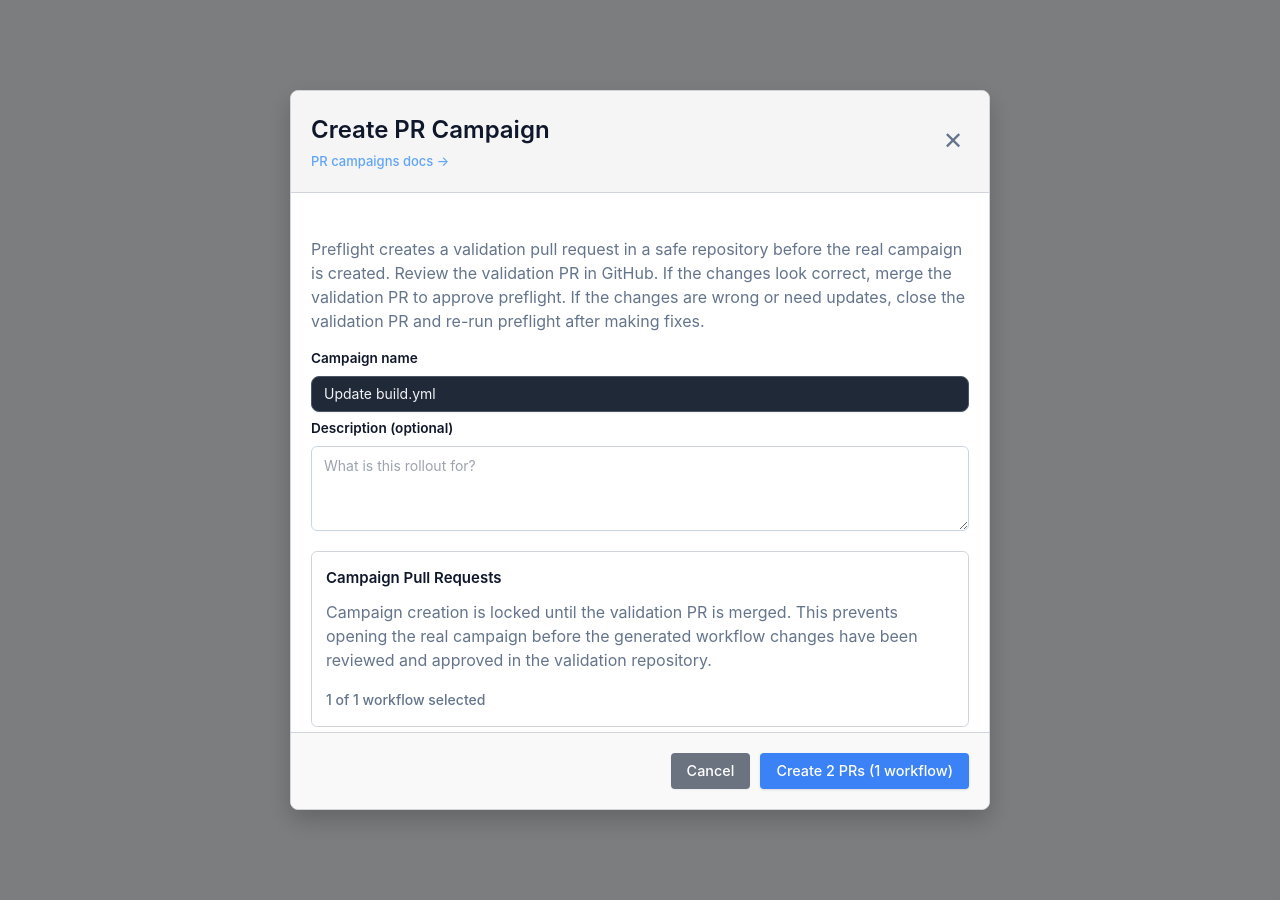
Test: CreatePRModal › failure reasons on the results screen › does not claim success when nothing was created
What coordinates should you click on to do the following:
click the button "Create 2 PRs (1 workflow)"
I would click on:
 (865, 771)
Its box is [760,753,969,789].
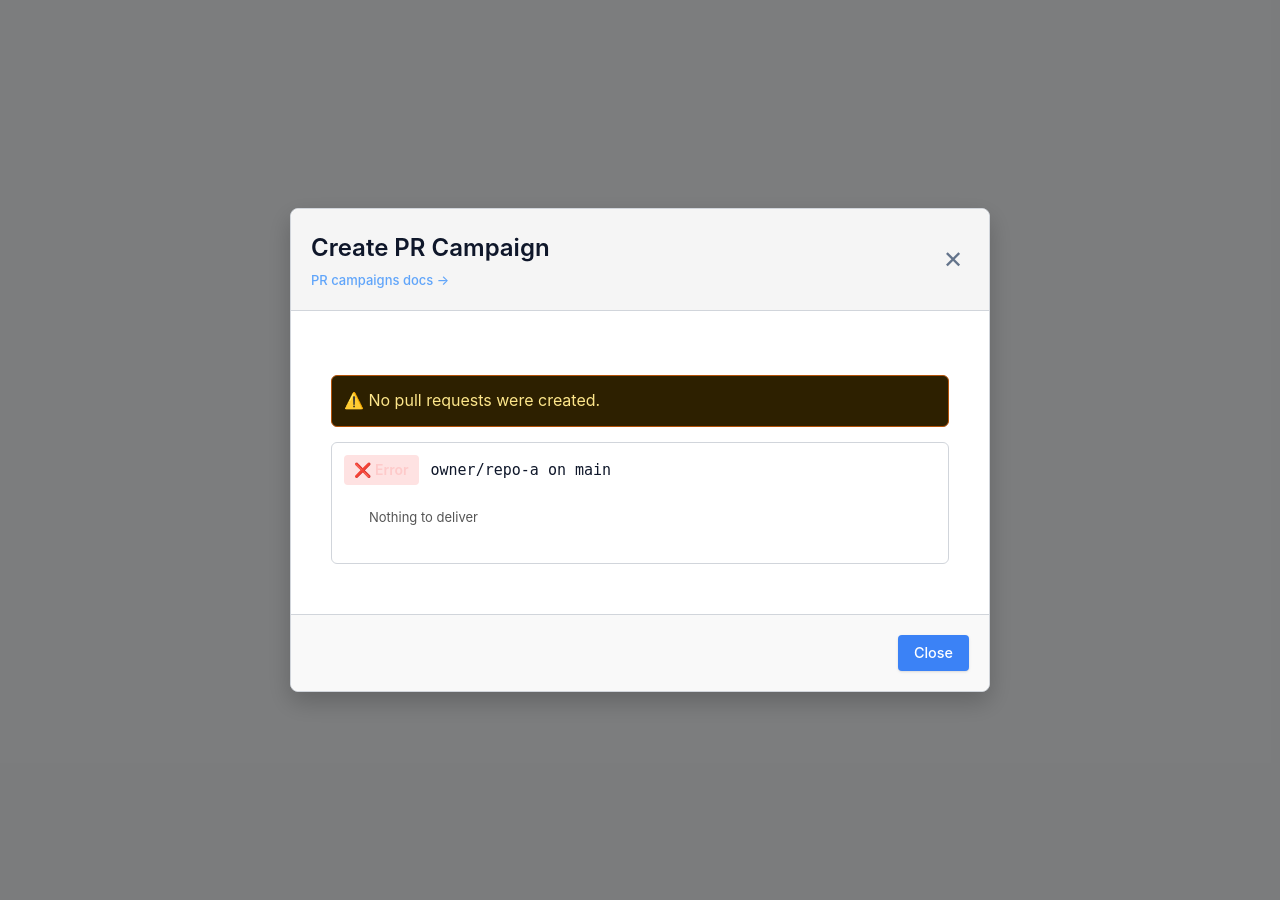
Expected: the text "⚠️ No pull requests were created." is shown, [331,375,949,427]
